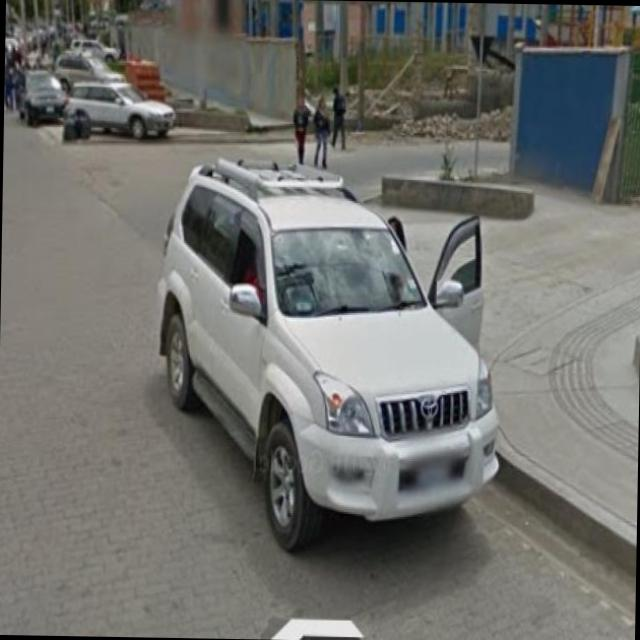car: (156, 155, 492, 574)
